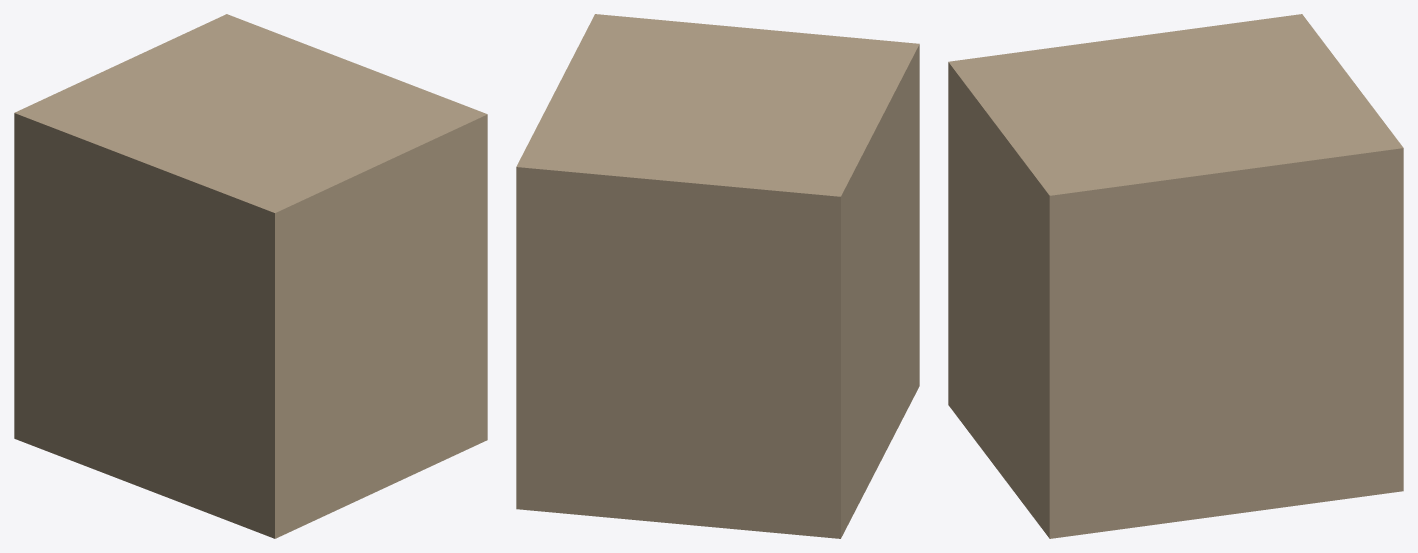
Rendered from bld_99867670.dae.
3 views of the same model, side by side, from view 1: azimuth 30°, elevation 25°; view 2: azimuth 150°, elevation 25°; view 3: azimuth 270°, elevation 25° (orthographic). The views are drawn at different scales.
Parts seen in each view (by area): view 1: bld_99867670; view 2: bld_99867670; view 3: bld_99867670.
Part boxes in pixels (left/top/right/bottom): bld_99867670: left=14, top=14, right=487, bottom=538; bld_99867670: left=516, top=14, right=919, bottom=538; bld_99867670: left=948, top=14, right=1403, bottom=538.
Bounding box in the file's own units: 9.09 × 9.62 × 8.
